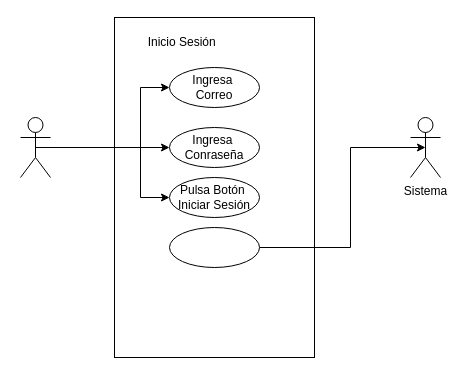
The diagram is 464 pixels wide and 375 high, and some of its shapes have lost their labels. The shapes that lost their labels are listed below. From the top down, each one's centre as x and y in pixels, then its label:
the point at 35,147: Cliente
the point at 214,247: Valida Datos correctos
